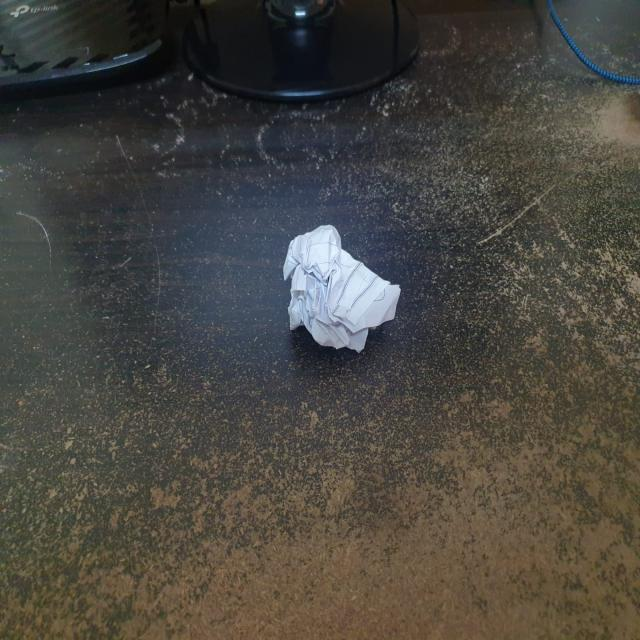Paper: (283, 222, 399, 357)
